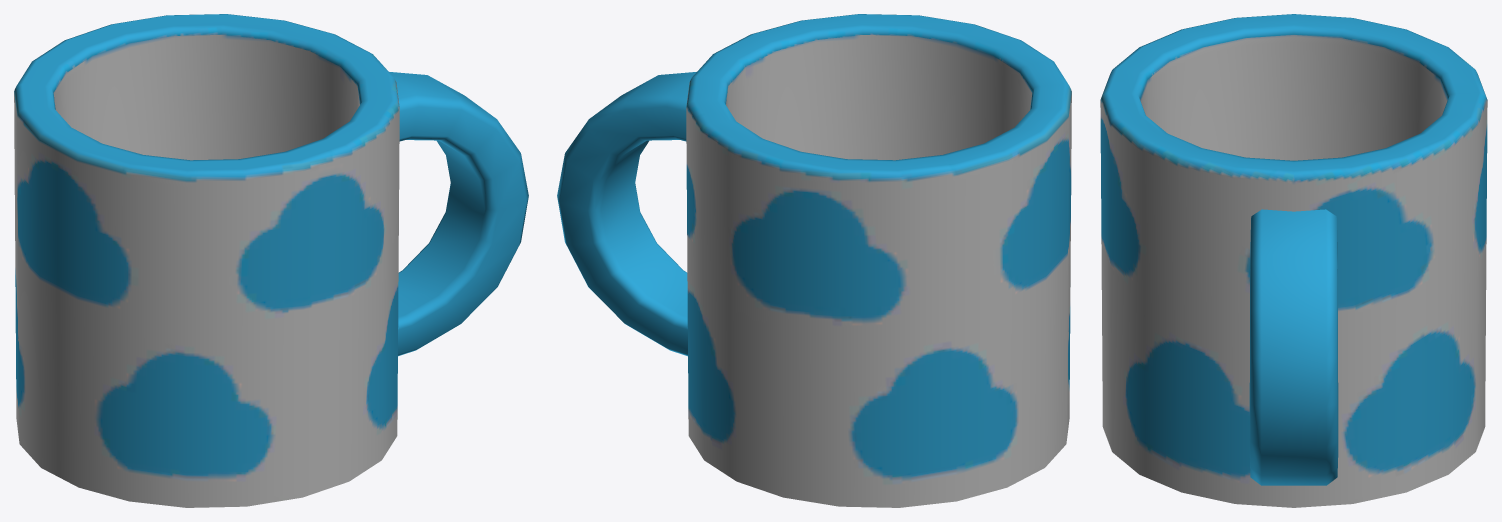
The model's file is 0-mug_blue.fbx.
3 views of the same model, side by side, from view 1: azimuth 30°, elevation 25°; view 2: azimuth 150°, elevation 25°; view 3: azimuth 270°, elevation 25° (orthographic).
Visible parts, largest first — view 1: 0-mug_blue; view 2: 0-mug_blue; view 3: 0-mug_blue.
Part boxes in pixels (x1,y1,x2,y2): 0-mug_blue: (14, 14, 528, 507); 0-mug_blue: (557, 14, 1071, 507); 0-mug_blue: (1100, 14, 1487, 507).
Size of the model in its own units: 76.47 by 52.03 by 54.22.
